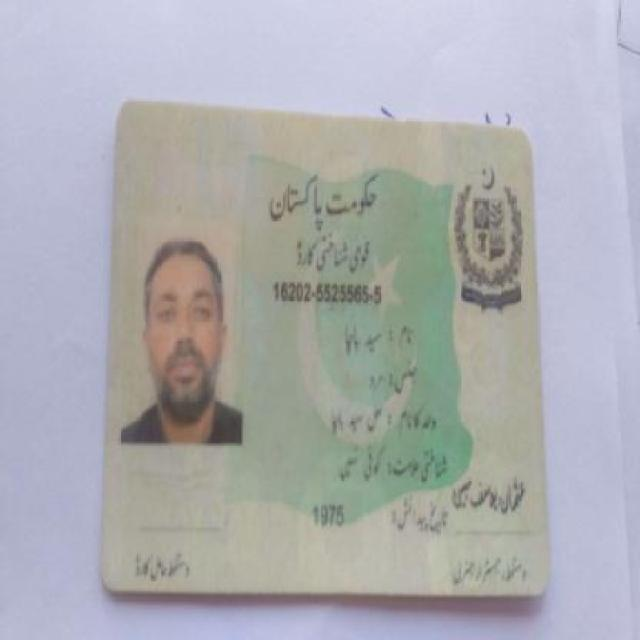Front: (102, 101, 548, 604)
